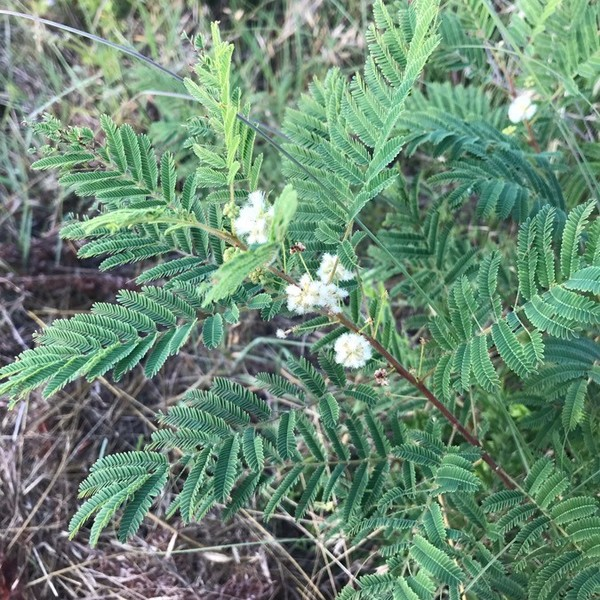obstacle: (73, 102, 511, 572)
